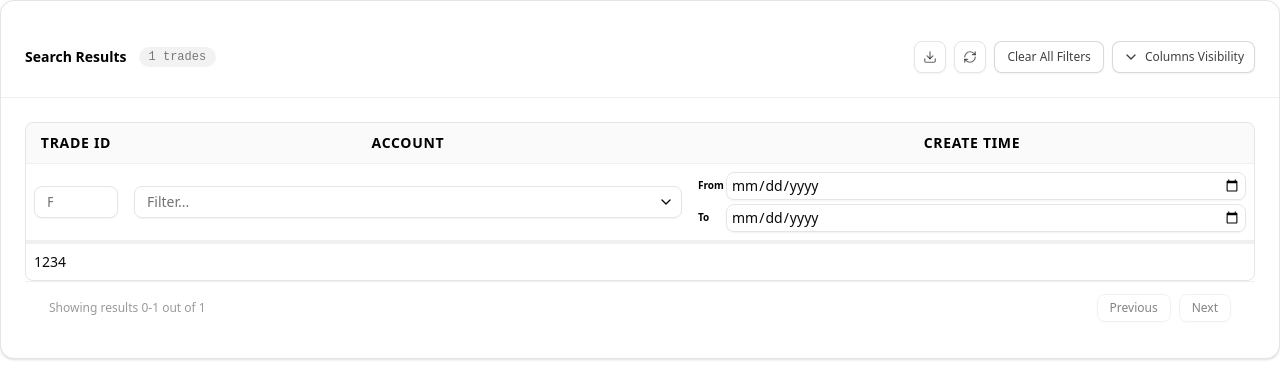
Scenario: TradeResultsTable › closes filter suggestions when Escape is pressed
Click the field with placeholder "Filter...": click(408, 202) [134,186,682,218]
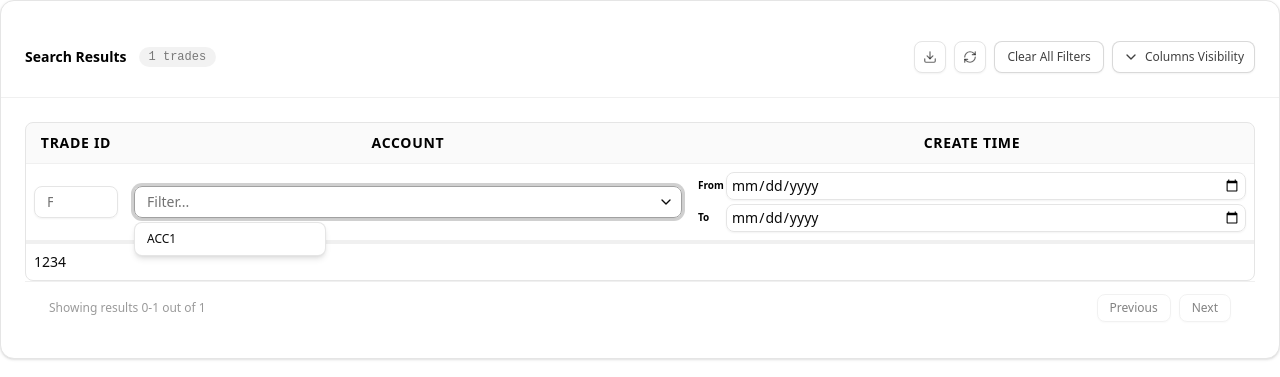
Now the button "ACC1" is shown, box [135,222,325,254]
Press Escape in the field with placeholder "Filter...", box [134,186,682,218]
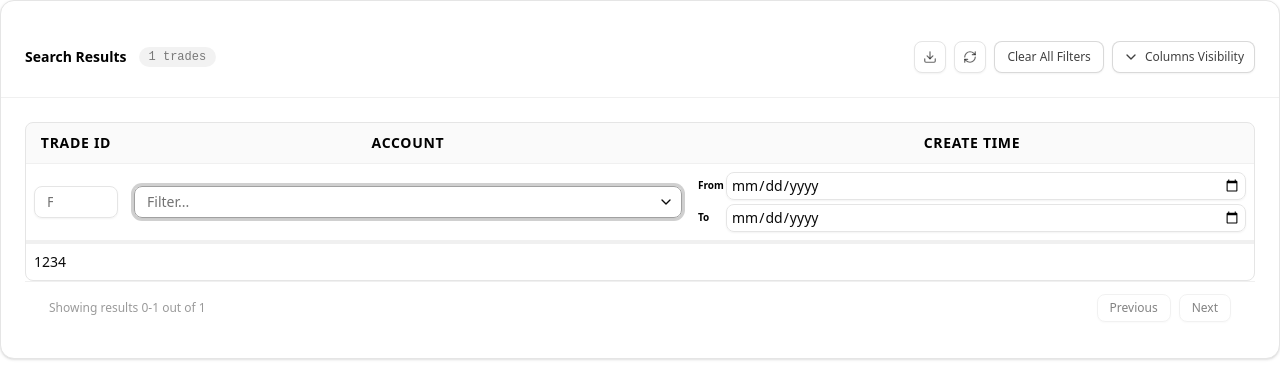
Now the button "ACC1" is gone
